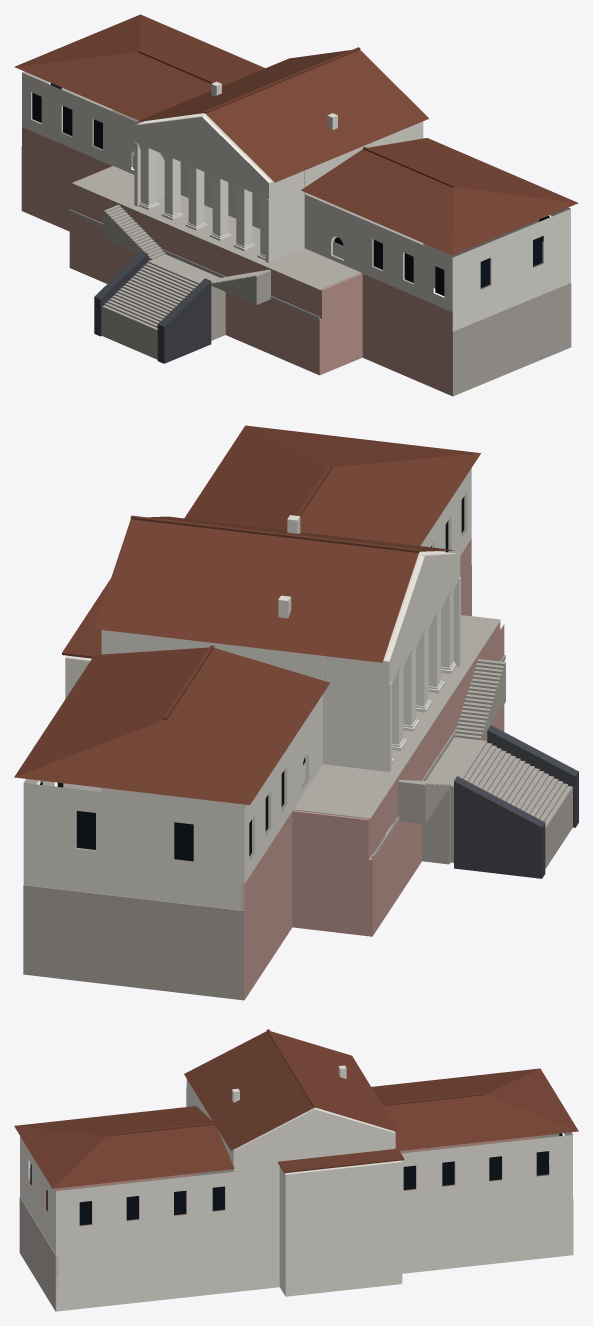
The model's file is kino_pobeda.lod.glb.
3 views of the same model, one above another, from view 1: azimuth 30°, elevation 25°; view 2: azimuth 150°, elevation 25°; view 3: azimuth 270°, elevation 25° (orthographic). The views are drawn at different scales.
Visible parts, largest first — view 1: kino_pobeda_roof, kino_pobeda_wall, kino_pobeda_wall2, kino_pobeda_stone, kino_pobeda_trim_s, kino_pobeda_wall3, kino_pobeda_glass; view 2: kino_pobeda_roof, kino_pobeda_wall, kino_pobeda_stone, kino_pobeda_wall2, kino_pobeda_wall3, kino_pobeda_trim_s, kino_pobeda_glass; view 3: kino_pobeda_wall, kino_pobeda_roof, kino_pobeda_glass, kino_pobeda_stone, kino_pobeda_wall2.
Part boxes in pixels (left/top/right/bottom): kino_pobeda_roof: left=14, top=14, right=578, bottom=255; kino_pobeda_wall: left=22, top=71, right=570, bottom=331; kino_pobeda_wall2: left=22, top=127, right=453, bottom=396; kino_pobeda_stone: left=21, top=109, right=571, bottom=396; kino_pobeda_trim_s: left=138, top=144, right=265, bottom=260; kino_pobeda_wall3: left=94, top=251, right=211, bottom=363; kino_pobeda_glass: left=32, top=83, right=549, bottom=295; kino_pobeda_roof: left=14, top=425, right=480, bottom=804; kino_pobeda_wall: left=23, top=468, right=471, bottom=910; kino_pobeda_stone: left=23, top=565, right=572, bottom=1000; kino_pobeda_wall2: left=240, top=539, right=504, bottom=998; kino_pobeda_wall3: left=454, top=725, right=578, bottom=878; kino_pobeda_trim_s: left=391, top=581, right=457, bottom=764; kino_pobeda_glass: left=40, top=496, right=464, bottom=861; kino_pobeda_wall: left=20, top=1065, right=572, bottom=1311; kino_pobeda_roof: left=14, top=1029, right=578, bottom=1188; kino_pobeda_glass: left=30, top=1133, right=562, bottom=1225; kino_pobeda_stone: left=19, top=1160, right=573, bottom=1311; kino_pobeda_wall2: left=28, top=1136, right=537, bottom=1226.
Bounding box in the file's own units: 39.63 × 22.26 × 63.8.
